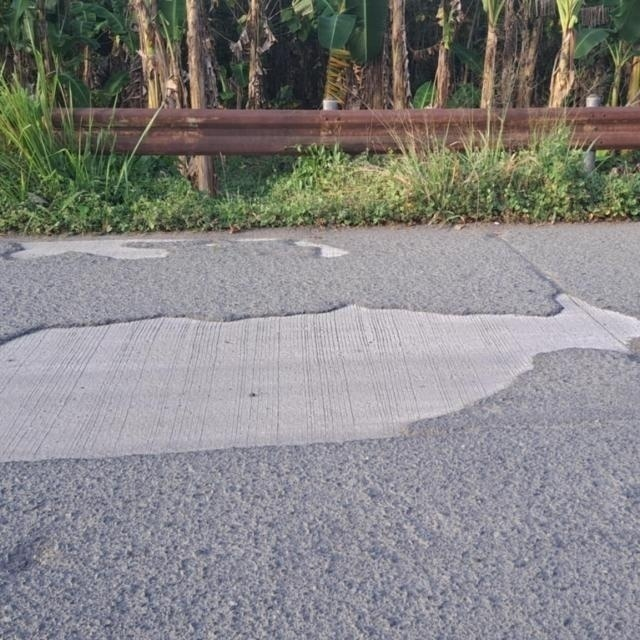pothole: (0, 292, 640, 456)
